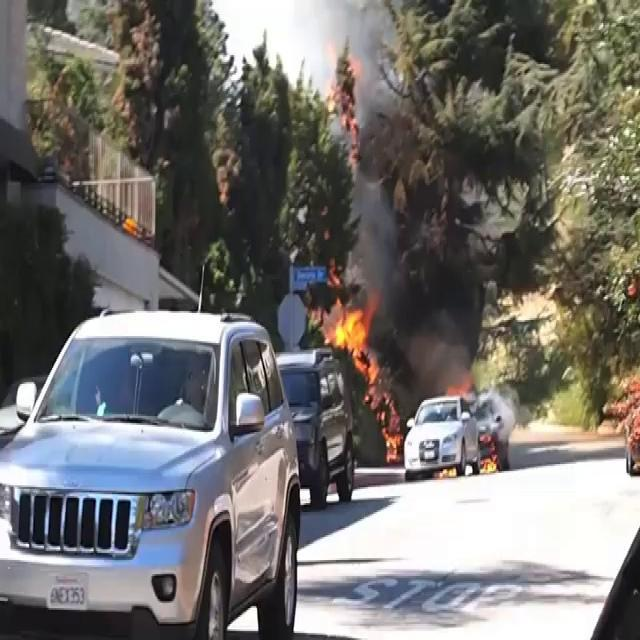Fire: (320, 296, 381, 376), (478, 447, 502, 474)
Smoke: (341, 167, 491, 379)
